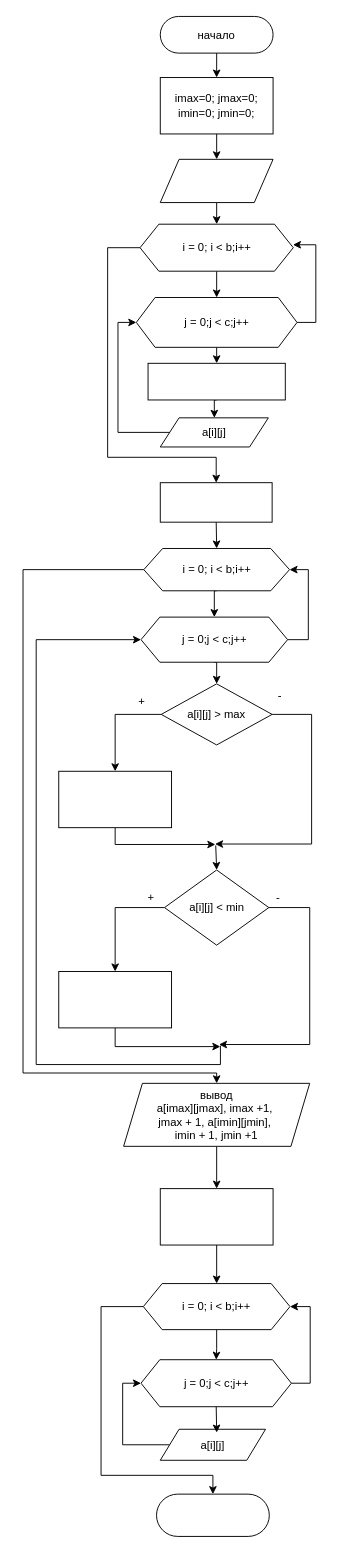
This 340x1553 diagram has some shape labels left out. Each missing label, with the centre of its shape:
"a[i][j] = rand() % 20 - 10;" belongs at (216,381).
"max = a[0][0]; min = a[0][0];" belongs at (215,502).
"max = a[i][j]; imax = i; jmax = j;" belongs at (115,799).
"min = a[i][j]; imin = i; jmin = j;" belongs at (115,999).
"swap(a[imax][jmax], a[imin][jmin]);" belongs at (216,1216).
"ввод c,b" belongs at (216,180).
"конец" belongs at (212,1514).
